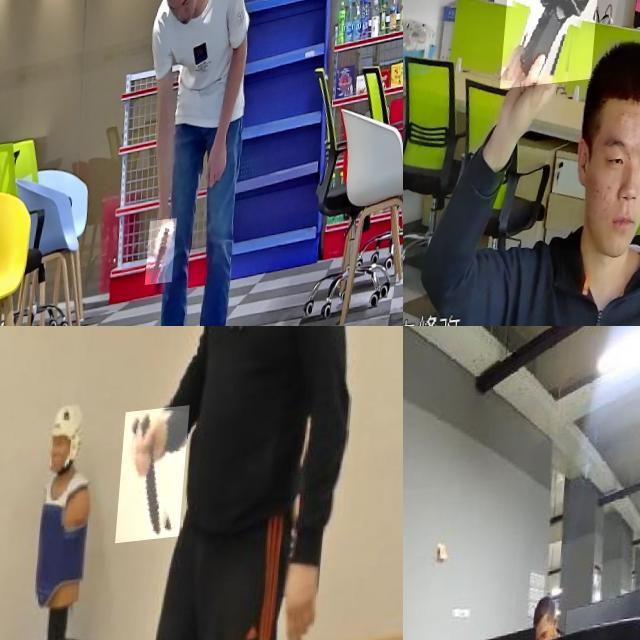-: (123, 412, 196, 548)
gun-knife-thesis - v11 Yolov5 augmented: (506, 0, 609, 99), (152, 226, 184, 294)
